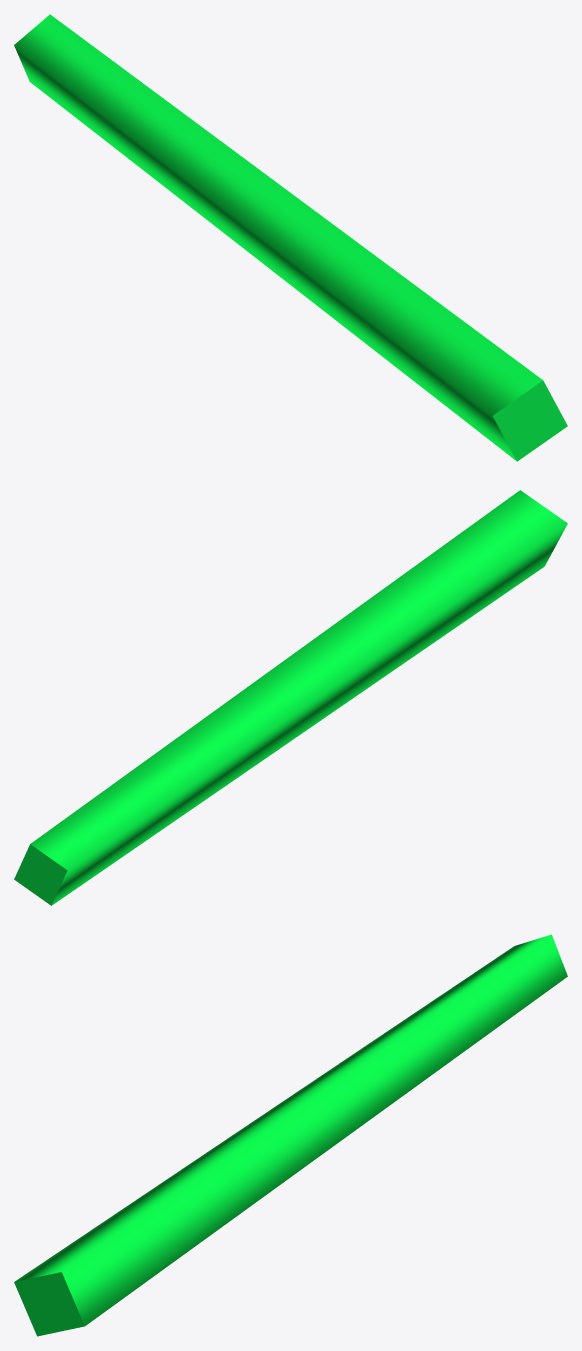
File: Plant03_e_col.FBX
3 renders of one model, top to bottom at view 1: azimuth 30°, elevation 25°; view 2: azimuth 150°, elevation 25°; view 3: azimuth 330°, elevation 25°, orthographic. The views are drawn at different scales.
Visible parts, largest first — view 1: Plant03_e_col; view 2: Plant03_e_col; view 3: Plant03_e_col.
Boxes of the visible parts, bbox=[...] form: Plant03_e_col: bbox=[14, 14, 567, 461]; Plant03_e_col: bbox=[14, 490, 567, 905]; Plant03_e_col: bbox=[14, 934, 567, 1336].
Bounding box in the file's own units: 47.26 × 41.6 × 511.
